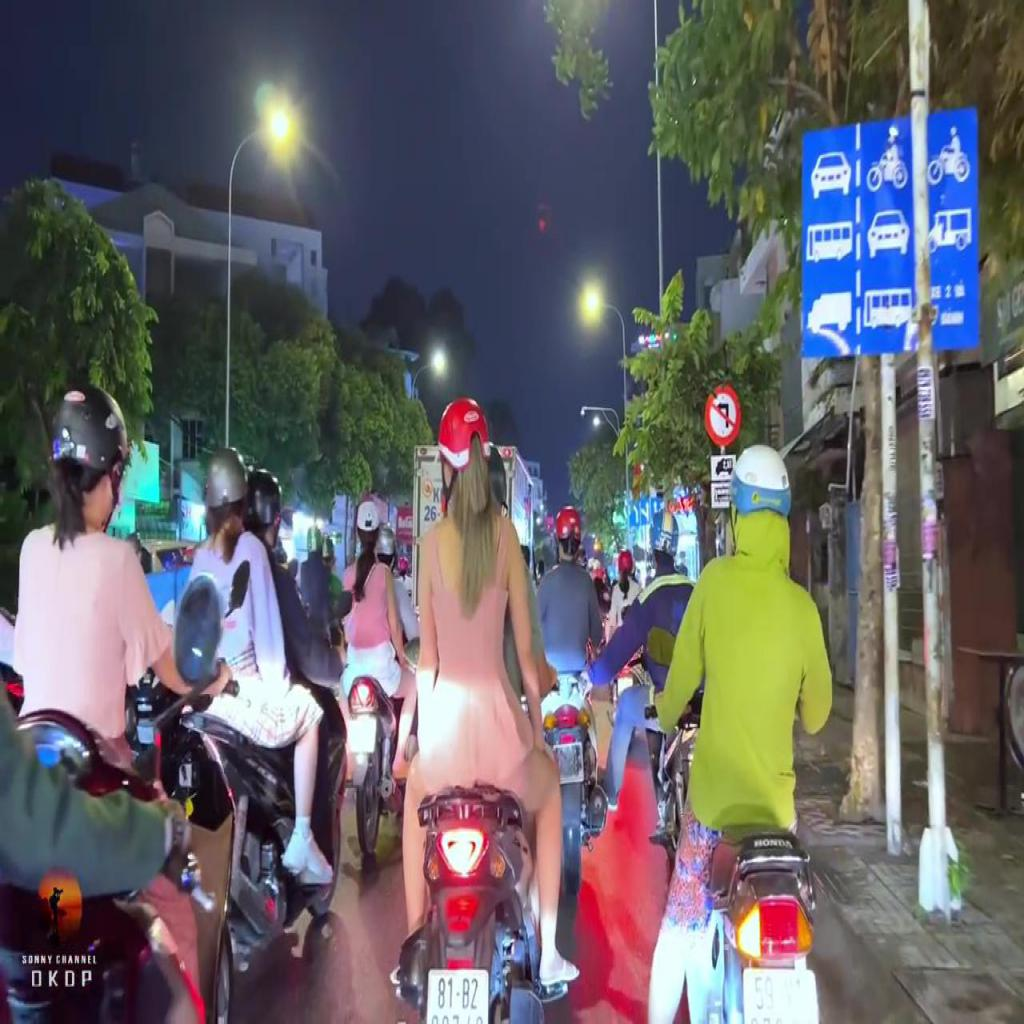cam_re_trai: (704, 384, 742, 447)
huong_di_tren_moi_lan_duong_theo_vach_ke_duong: (630, 499, 662, 526)
khac: (710, 455, 736, 479), (712, 482, 730, 509)
lan_duong_cho_tung_xe_theo_vach_ke_duong: (801, 108, 979, 358)
